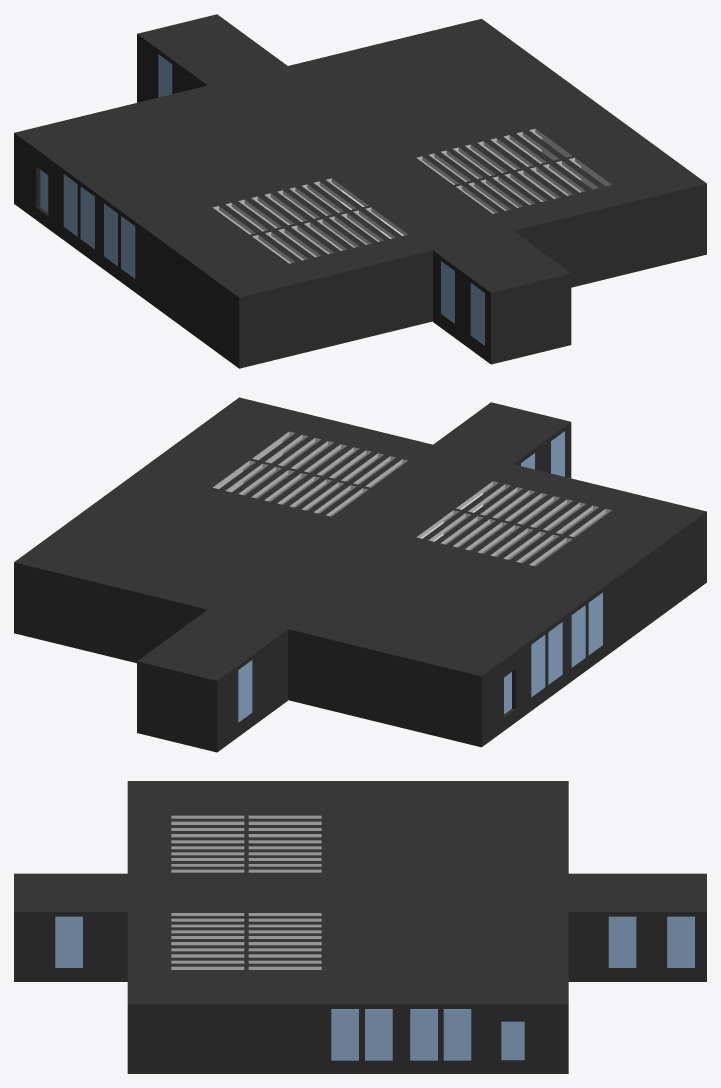
Rendered from Building.fbx.
3 views of the same model, one above another, from view 1: azimuth 30°, elevation 25°; view 2: azimuth 150°, elevation 25°; view 3: azimuth 270°, elevation 25° (orthographic). The views are drawn at different scales.
Visible parts, largest first — view 1: SM_Box, SM_Room, SM_Glass; view 2: SM_Box, SM_Room, SM_Glass; view 3: SM_Box, SM_Glass, SM_Room.
Boxes of the visible parts, left/top/right/bottom form: SM_Box: left=14, top=14, right=706, bottom=368; SM_Room: left=212, top=128, right=611, bottom=263; SM_Glass: left=40, top=54, right=484, bottom=345; SM_Box: left=14, top=397, right=706, bottom=752; SM_Room: left=213, top=431, right=611, bottom=566; SM_Glass: left=238, top=431, right=602, bottom=722; SM_Box: left=14, top=781, right=706, bottom=1073; SM_Glass: left=55, top=916, right=694, bottom=1060; SM_Room: left=171, top=815, right=524, bottom=1059.
Size of the model in its own units: 3620 by 530 by 4746.
